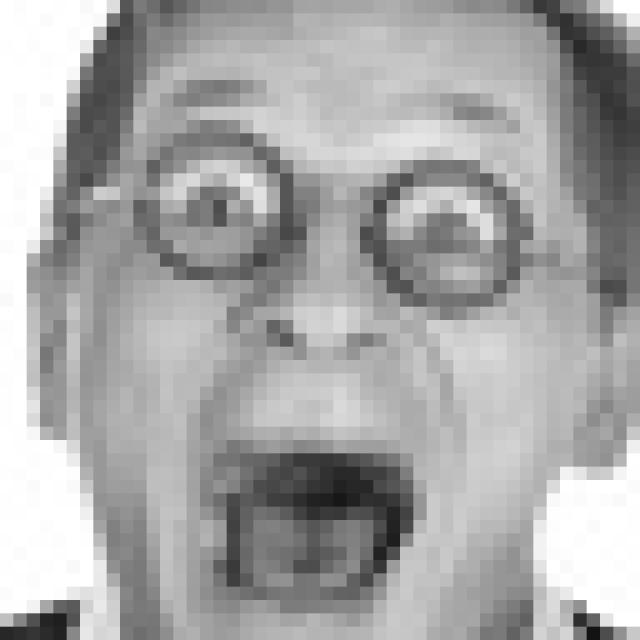surprise: (116, 73, 559, 614)
